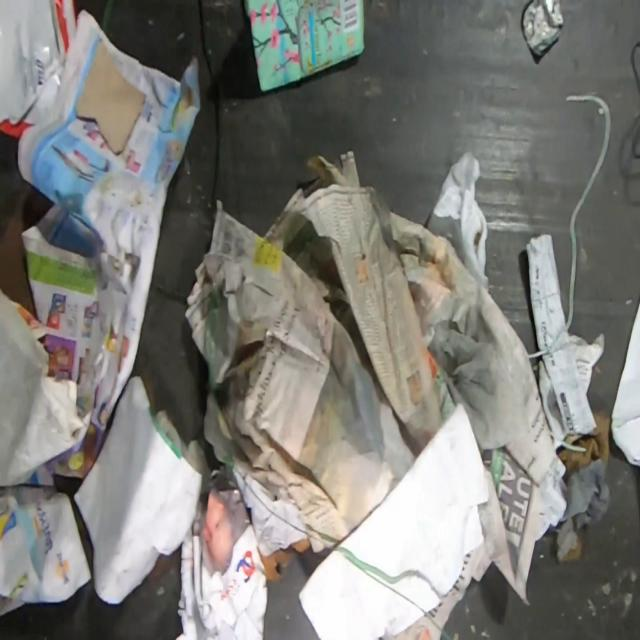cardboard: (242, 0, 364, 93), (71, 39, 145, 159)
soft_plastic: (0, 0, 76, 136)
